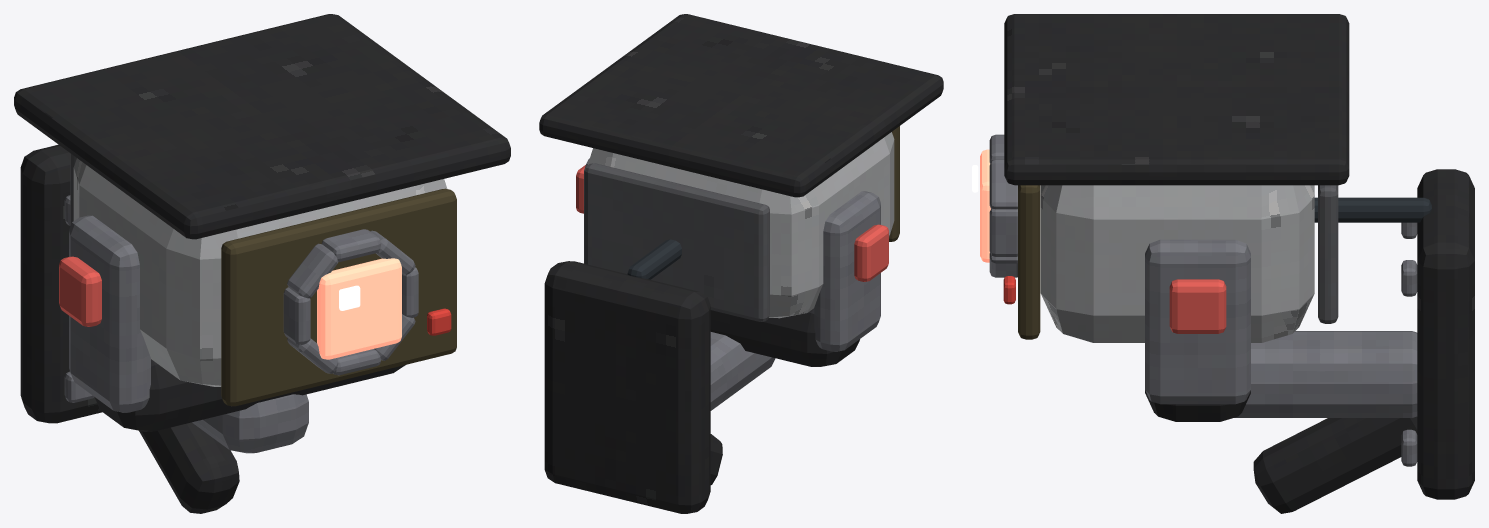
File: decor_sec_wall_camera.glb
The picture shows the model from 3 angles, left to right: view 1: azimuth 30°, elevation 25°; view 2: azimuth 150°, elevation 25°; view 3: azimuth 270°, elevation 25°; orthographic projection. The views are drawn at different scales.
Visible parts, largest first — view 1: DEC_SecWallCamera__Weather_Visor, DEC_SecWallCamera__Lens_Recess, DEC_SecWallCamera__Camera_Body, DEC_SecWallCamera__Mount_Plate, DEC_SecWallCamera__Pivot_Ear_0, DEC_SecWallCamera__Lens_Glass, DEC_SecWallCamera__Bracket_Gusset, DEC_SecWallCamera__Pivot_Yoke, DEC_SecWallCamera__Bracket_Arm, DEC_SecWallCamera__Pivot_Cap_0, DEC_SecWallCamera__Lens_Rim_7, DEC_SecWallCamera__Lens_Rim_6 (+6 smaller); view 2: DEC_SecWallCamera__Weather_Visor, DEC_SecWallCamera__Mount_Plate, DEC_SecWallCamera__Camera_Rear_Panel, DEC_SecWallCamera__Camera_Body, DEC_SecWallCamera__Pivot_Ear_0, DEC_SecWallCamera__Pivot_Yoke, DEC_SecWallCamera__Bracket_Arm, DEC_SecWallCamera__Pivot_Cap_0, DEC_SecWallCamera__Cable_Feed, DEC_SecWallCamera__Lens_Recess, DEC_SecWallCamera__Bracket_Gusset; view 3: DEC_SecWallCamera__Weather_Visor, DEC_SecWallCamera__Camera_Body, DEC_SecWallCamera__Mount_Plate, DEC_SecWallCamera__Pivot_Ear_1, DEC_SecWallCamera__Bracket_Arm, DEC_SecWallCamera__Bracket_Gusset, DEC_SecWallCamera__Lens_Recess, DEC_SecWallCamera__Pivot_Cap_1, DEC_SecWallCamera__Camera_Rear_Panel, DEC_SecWallCamera__Cable_Feed, DEC_SecWallCamera__Pivot_Yoke, DEC_SecWallCamera__Lens_Rim_2 (+5 smaller).
Part boxes in pixels (x1,y1,x2,y2): DEC_SecWallCamera__Weather_Visor: (14,14,510,239); DEC_SecWallCamera__Lens_Recess: (221,188,456,406); DEC_SecWallCamera__Camera_Body: (73,158,447,386); DEC_SecWallCamera__Mount_Plate: (20,144,102,423); DEC_SecWallCamera__Pivot_Ear_0: (69,215,150,412); DEC_SecWallCamera__Lens_Glass: (317,258,401,359); DEC_SecWallCamera__Bracket_Gusset: (139,422,239,513); DEC_SecWallCamera__Pivot_Yoke: (94,359,405,431); DEC_SecWallCamera__Bracket_Arm: (192,394,308,453); DEC_SecWallCamera__Pivot_Cap_0: (59,256,101,326); DEC_SecWallCamera__Lens_Rim_7: (287,243,338,298); DEC_SecWallCamera__Lens_Rim_6: (283,287,310,344); DEC_SecWallCamera__Weather_Visor: (539,14,943,197); DEC_SecWallCamera__Mount_Plate: (544,261,710,513); DEC_SecWallCamera__Camera_Rear_Panel: (585,163,769,321); DEC_SecWallCamera__Camera_Body: (588,132,894,318); DEC_SecWallCamera__Pivot_Ear_0: (814,191,880,351); DEC_SecWallCamera__Pivot_Yoke: (710,308,859,366); DEC_SecWallCamera__Bracket_Arm: (710,332,775,410); DEC_SecWallCamera__Pivot_Cap_0: (854,224,888,281); DEC_SecWallCamera__Cable_Feed: (627,239,681,279); DEC_SecWallCamera__Lens_Recess: (889,126,899,241); DEC_SecWallCamera__Bracket_Gusset: (710,434,722,484); DEC_SecWallCamera__Weather_Visor: (1004,14,1349,185); DEC_SecWallCamera__Camera_Body: (1040,185,1314,342); DEC_SecWallCamera__Mount_Plate: (1417,169,1474,499); DEC_SecWallCamera__Pivot_Ear_1: (1145,239,1250,404); DEC_SecWallCamera__Bracket_Arm: (1234,331,1417,417); DEC_SecWallCamera__Bracket_Gusset: (1253,416,1417,513); DEC_SecWallCamera__Lens_Recess: (1018,185,1040,339); DEC_SecWallCamera__Pivot_Cap_1: (1169,279,1226,333); DEC_SecWallCamera__Camera_Rear_Panel: (1318,185,1338,323); DEC_SecWallCamera__Cable_Feed: (1314,197,1431,222); DEC_SecWallCamera__Pivot_Yoke: (1145,390,1250,421); DEC_SecWallCamera__Lens_Rim_2: (989,209,1017,256).
Size of the model in its own units: 0.455 by 0.5264 by 0.5685.
Materials: 10 (4 with a texture image).
